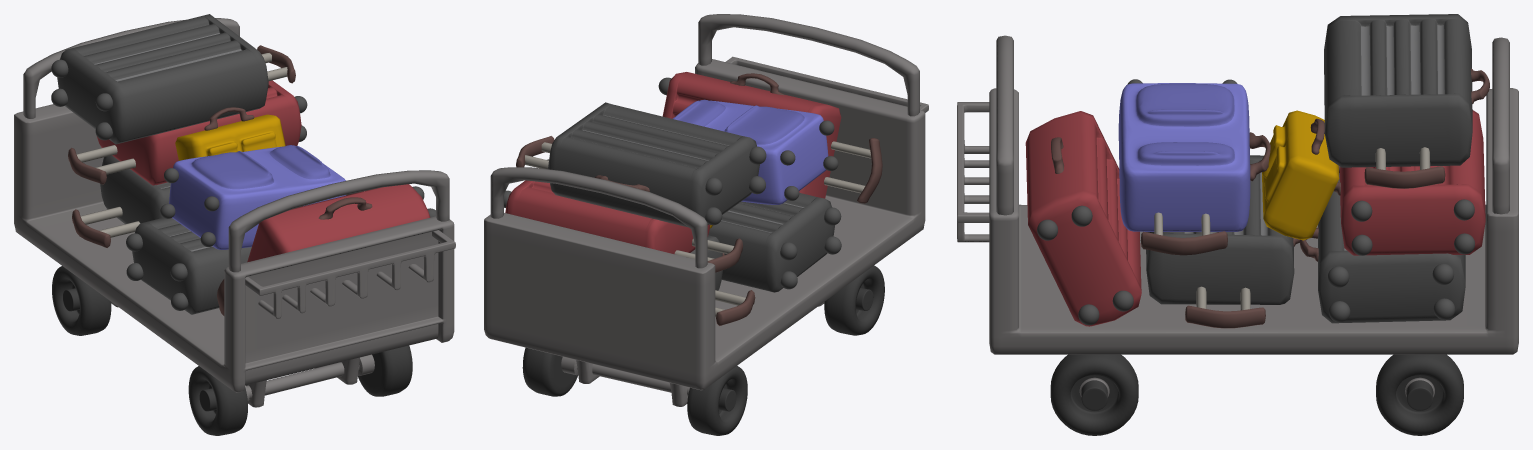
File: cart#2.fbx
3 views of the same model, side by side, from view 1: azimuth 30°, elevation 25°; view 2: azimuth 150°, elevation 25°; view 3: azimuth 270°, elevation 25° (orthographic). The views are drawn at different scales.
Parts seen in each view (by area): view 1: pCube41, polySurface69, polySurface67, polySurface66, polySurface64, polySurface65, polySurface63, polySurface68; view 2: pCube41, polySurface69, polySurface64, polySurface67, polySurface65, polySurface66, polySurface63; view 3: pCube41, polySurface69, polySurface67, polySurface66, polySurface65, polySurface64, polySurface63, polySurface68.
Boxes of the visible parts, x1,y1,x2,y2 form: pCube41: (14, 18, 455, 435); polySurface69: (51, 14, 295, 144); polySurface67: (160, 145, 359, 249); polySurface66: (217, 184, 435, 315); polySurface64: (126, 217, 251, 314); polySurface65: (68, 80, 307, 185); polySurface63: (72, 155, 170, 247); polySurface68: (175, 107, 285, 160); pCube41: (484, 14, 928, 435); polySurface69: (516, 102, 766, 227); polySurface64: (708, 193, 841, 292); polySurface67: (673, 99, 838, 204); polySurface65: (504, 159, 743, 272); polySurface66: (658, 72, 882, 203); polySurface63: (690, 235, 755, 325); pCube41: (957, 35, 1518, 435); polySurface69: (1324, 14, 1489, 188); polySurface67: (1118, 79, 1270, 255); polySurface66: (1025, 111, 1141, 326); polySurface65: (1334, 110, 1485, 255); polySurface64: (1146, 155, 1299, 328); polySurface63: (1300, 173, 1465, 323); polySurface68: (1262, 110, 1339, 240).
Size of the model in its own units: 7.03 by 7.98 by 12.59.
